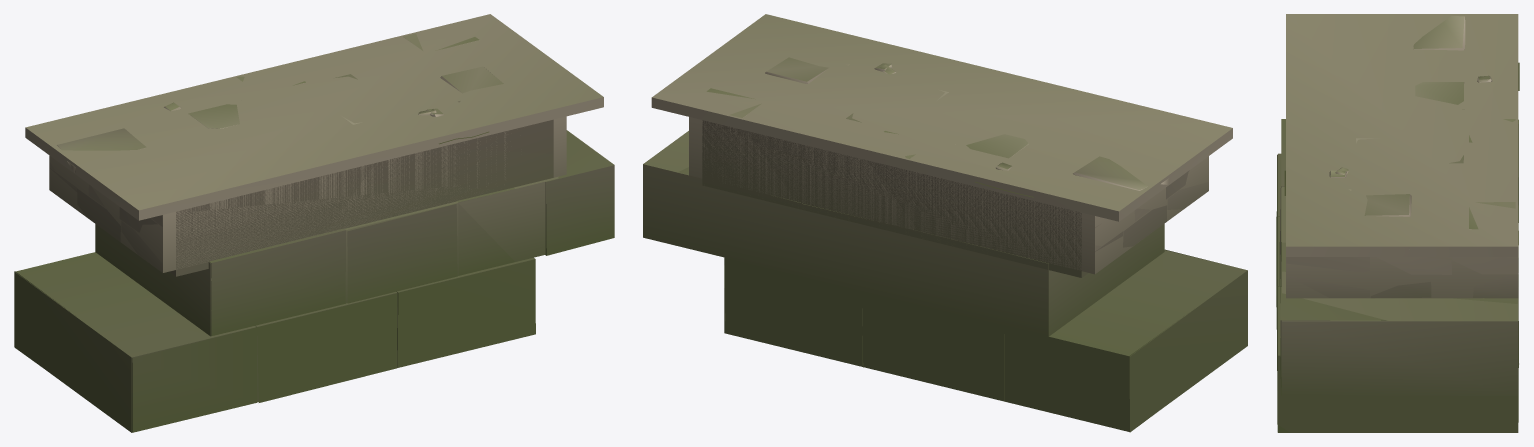
File: podium_floor.glb
3 views of the same model, side by side, from view 1: azimuth 30°, elevation 25°; view 2: azimuth 150°, elevation 25°; view 3: azimuth 270°, elevation 25° (orthographic). The views are drawn at different scales.
Parts seen in each view (by area): view 1: podium_floor_far, podium_floor; view 2: podium_floor_far, podium_floor; view 3: podium_floor_far, podium_floor.
Part boxes in pixels (bbox=[...]): podium_floor_far: bbox=[14, 14, 614, 432]; podium_floor: bbox=[14, 33, 614, 432]; podium_floor_far: bbox=[643, 14, 1247, 431]; podium_floor: bbox=[678, 57, 1221, 432]; podium_floor_far: bbox=[1278, 14, 1518, 432]; podium_floor: bbox=[1276, 16, 1519, 432].
Bounding box in the file's own units: 22.2 × 9.66 × 9.42.
